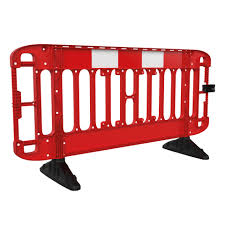barrier: (9, 43, 219, 193)
